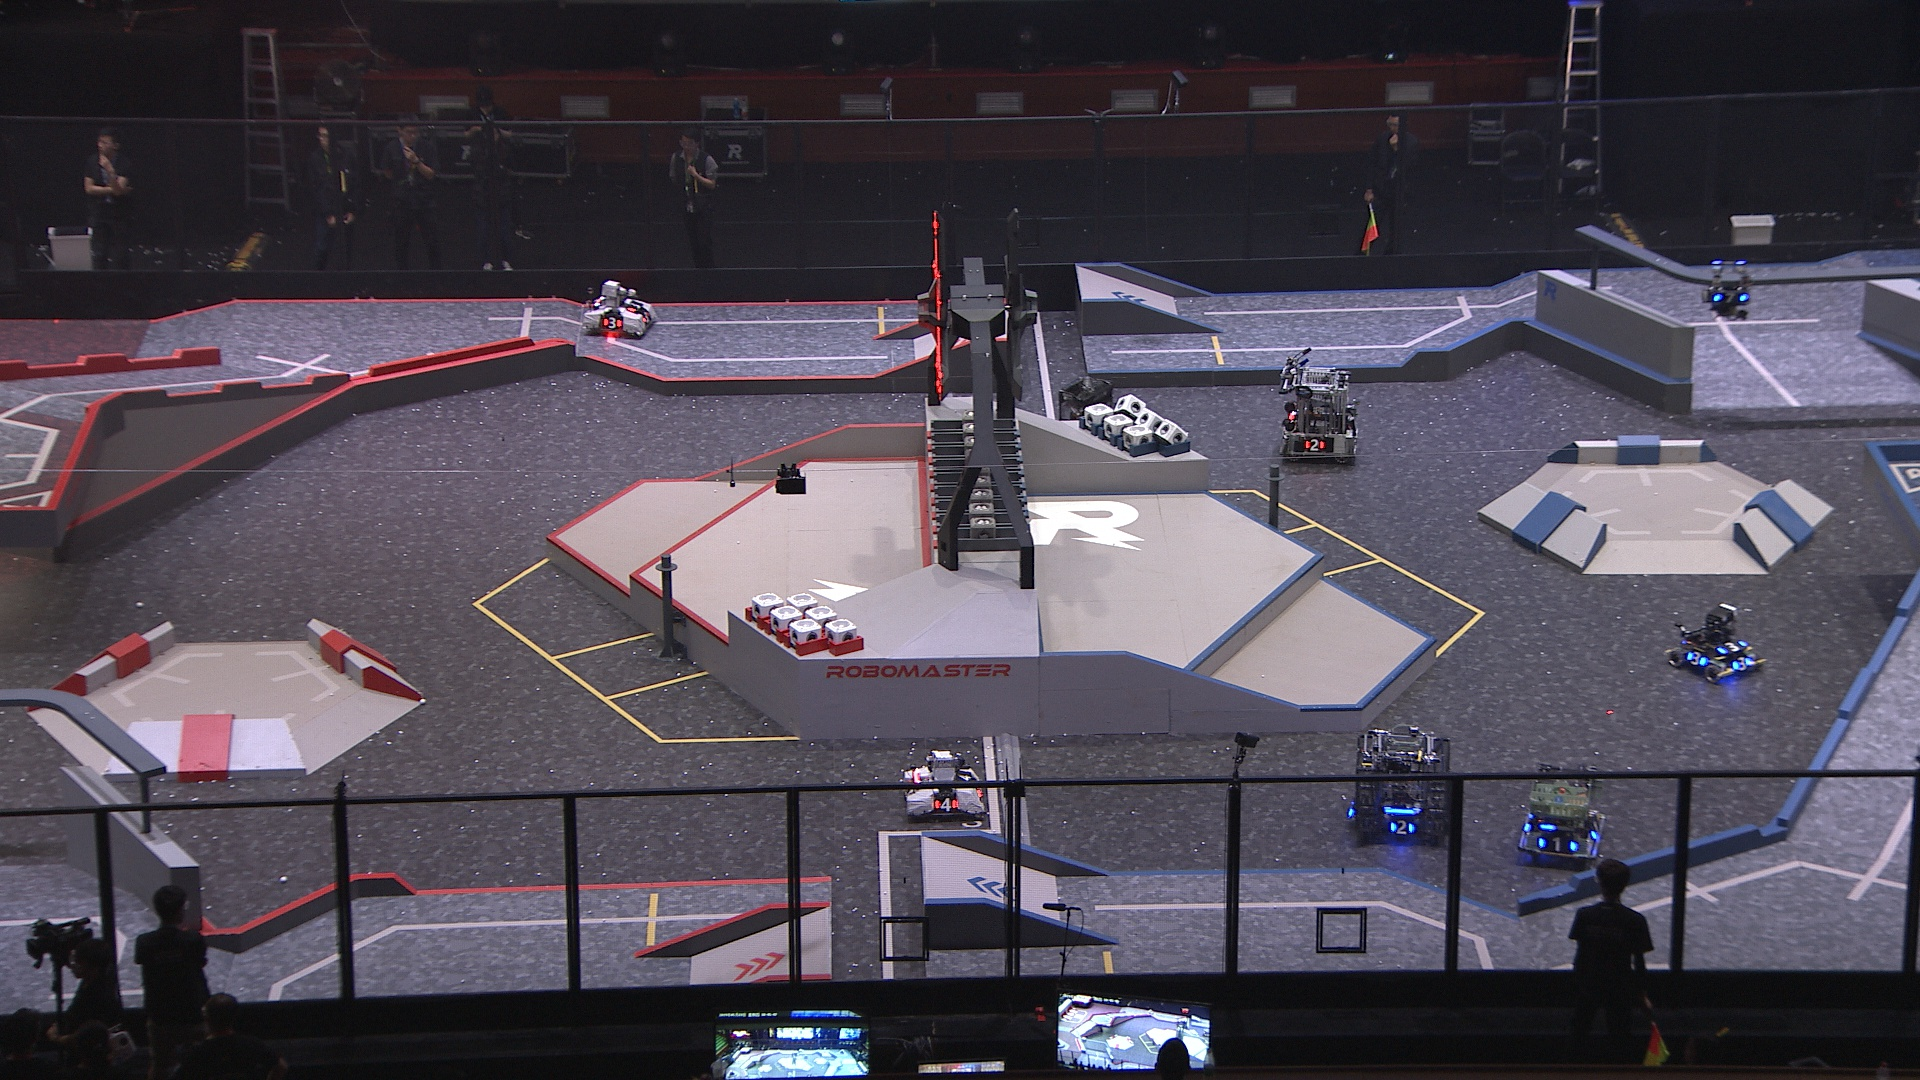armor: (1536, 835, 1577, 855), (1712, 289, 1751, 306), (1389, 818, 1418, 839), (1718, 638, 1747, 654), (932, 796, 959, 814), (1300, 436, 1327, 454), (1684, 650, 1708, 669), (1589, 814, 1604, 843), (603, 314, 626, 330), (1731, 654, 1751, 673), (955, 769, 973, 785), (626, 301, 645, 314), (640, 310, 651, 324)
car: (1349, 728, 1449, 851), (1518, 766, 1607, 865), (1275, 363, 1358, 465), (1664, 604, 1768, 683), (898, 749, 992, 825), (1054, 377, 1135, 454), (578, 277, 662, 338)
watcher: (1700, 258, 1754, 322)
